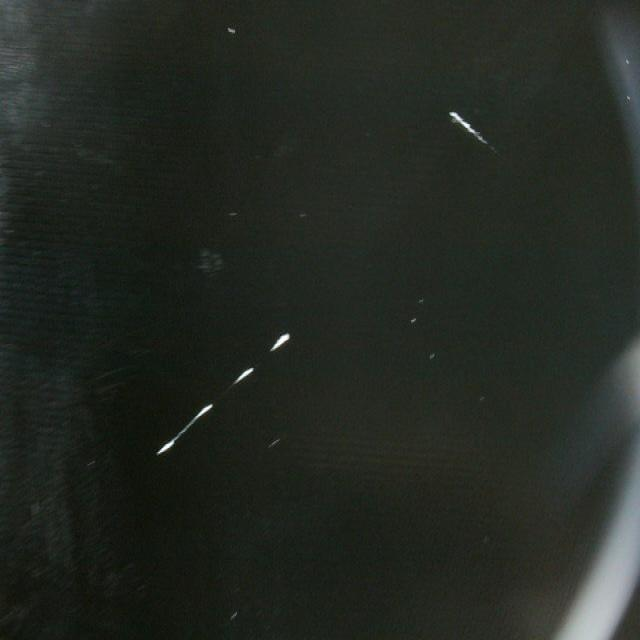scratch: (156, 328, 292, 460), (444, 102, 501, 158)
